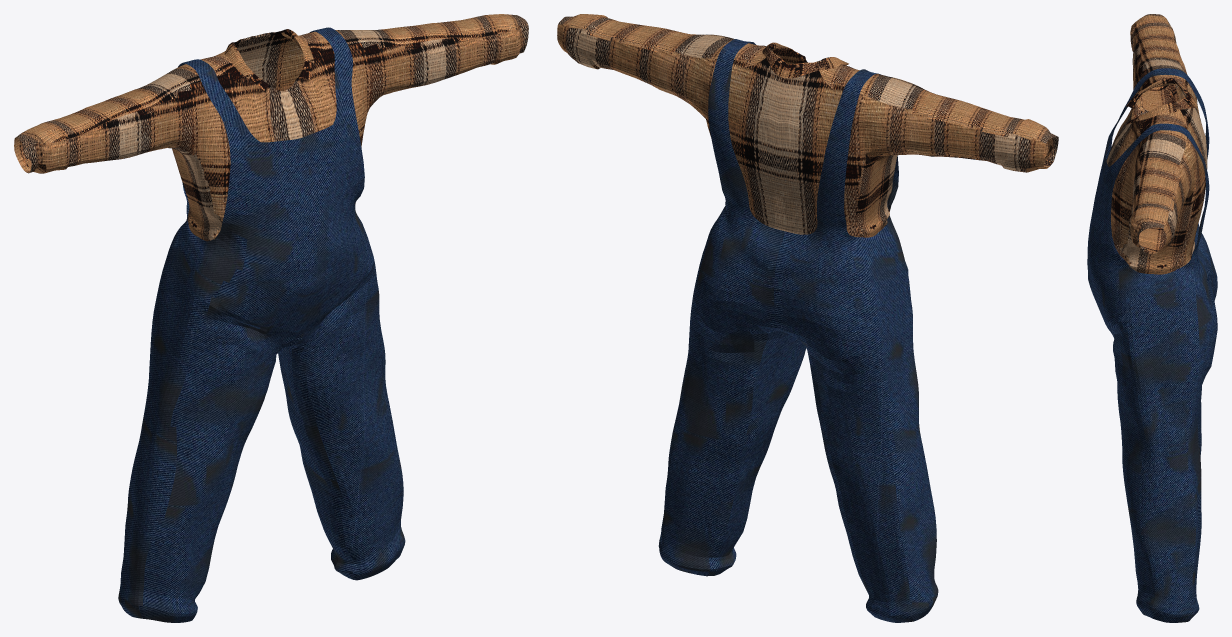
File: Shirt03.fbx
3 renders of one model, left to right at view 1: azimuth 30°, elevation 25°; view 2: azimuth 150°, elevation 25°; view 3: azimuth 270°, elevation 25°, orthographic. The views are drawn at different scales.
Visible parts, largest first — view 1: Touser, Shirt; view 2: Touser, Shirt; view 3: Touser, Shirt.
Part boxes in pixels (left/top/right/bottom): Touser: left=118, top=27, right=405, bottom=622; Shirt: left=14, top=14, right=528, bottom=241; Touser: left=658, top=39, right=938, bottom=622; Shirt: left=557, top=14, right=1058, bottom=237; Touser: left=1087, top=68, right=1217, bottom=622; Shirt: left=1106, top=14, right=1207, bottom=274.
Bounding box in the file's own units: 155 × 163 × 39.8.
Materials: 2 (2 with a texture image).
